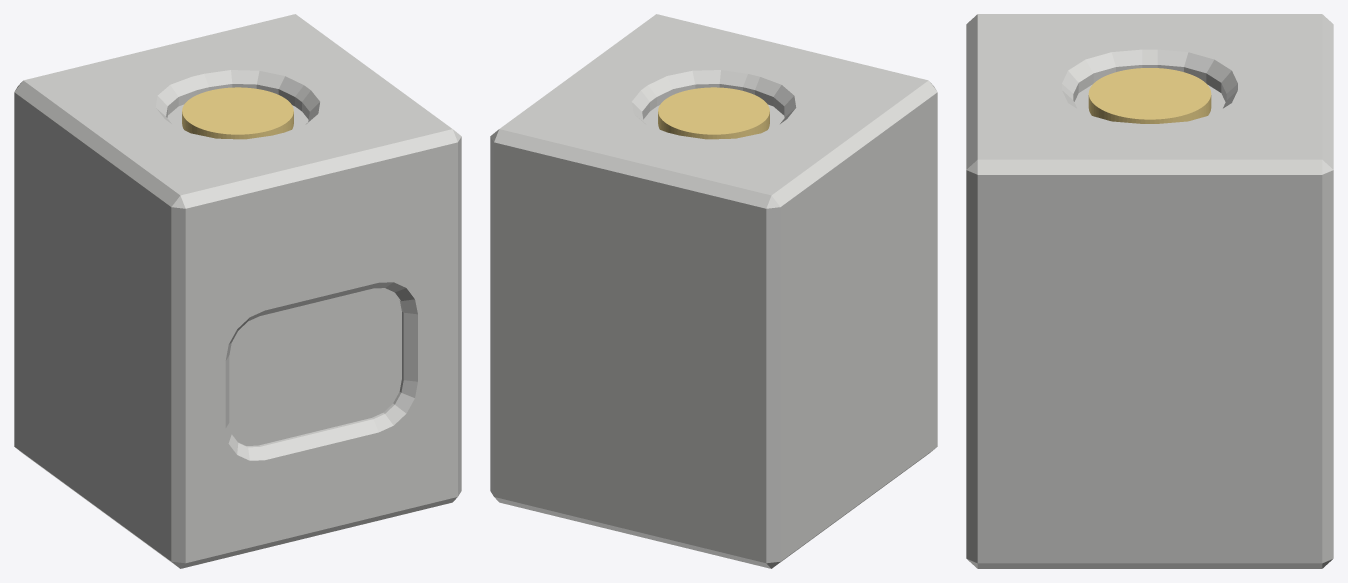
The model's file is ax_util_22_radiation_monitor.glb.
3 renders of one model, left to right at view 1: azimuth 30°, elevation 25°; view 2: azimuth 150°, elevation 25°; view 3: azimuth 270°, elevation 25°, orthographic. The views are drawn at different scales.
Visible parts, largest first — view 1: housing, detector_stack; view 2: housing, detector_stack; view 3: housing, detector_stack.
Part boxes in pixels (x1,y1,x2,y2): housing: [14, 14, 461, 568]; detector_stack: [182, 87, 293, 139]; housing: [490, 14, 937, 568]; detector_stack: [658, 87, 769, 139]; housing: [966, 14, 1333, 568]; detector_stack: [1088, 68, 1211, 123].
Size of the model in its own units: 0.48 by 0.59 by 0.48.
